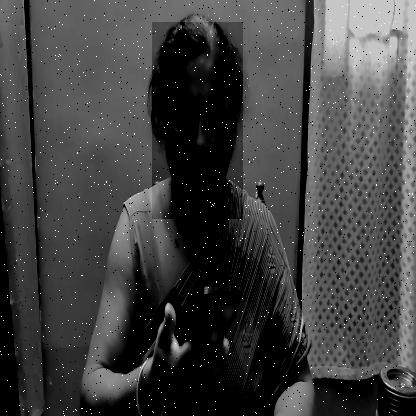Distracted: (152, 22, 243, 219)
